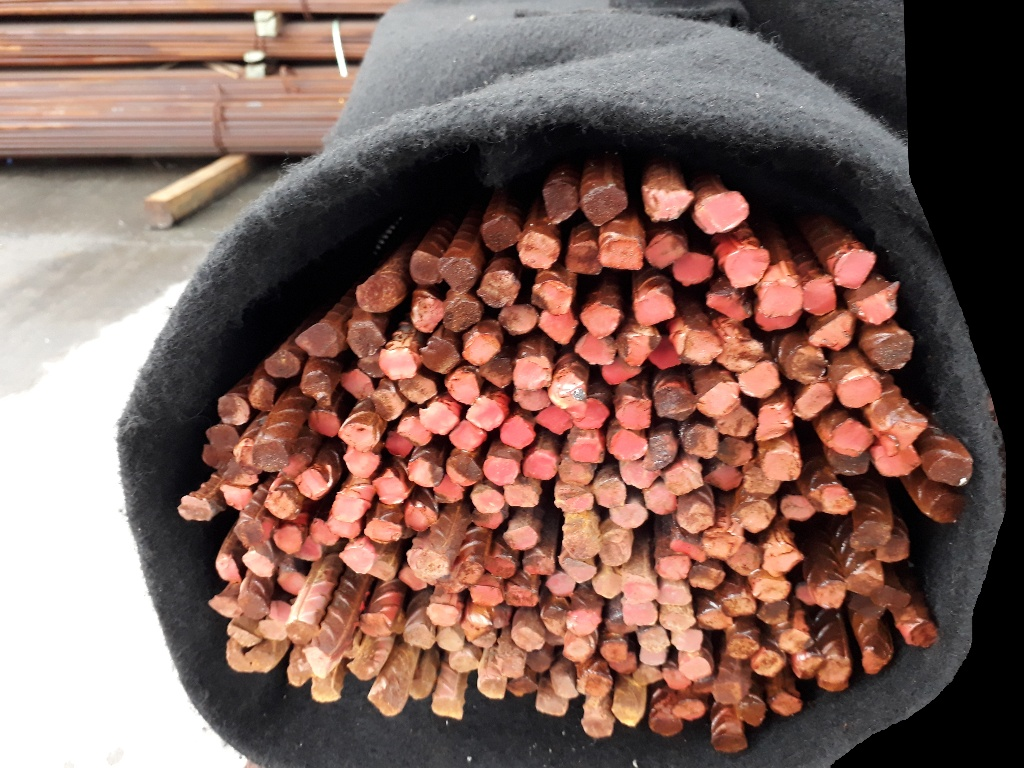dipstick: (694, 190, 749, 236), (858, 328, 914, 372), (639, 180, 693, 224), (720, 247, 770, 290), (852, 283, 902, 325), (836, 367, 883, 409), (808, 308, 853, 351), (829, 250, 877, 290), (583, 183, 627, 226), (870, 441, 921, 478), (925, 448, 973, 487), (597, 235, 647, 272), (542, 179, 580, 227), (345, 315, 388, 357), (700, 518, 745, 558), (844, 557, 889, 597), (737, 360, 783, 399), (616, 328, 660, 368), (707, 281, 752, 320), (717, 338, 767, 373), (562, 514, 600, 560), (406, 287, 443, 334), (546, 366, 587, 408), (518, 230, 561, 270), (477, 268, 520, 308), (295, 322, 344, 357), (404, 548, 453, 583), (643, 232, 688, 269), (632, 289, 678, 325), (441, 294, 482, 334), (418, 335, 461, 373), (878, 421, 927, 454), (613, 390, 653, 430), (786, 344, 827, 383), (696, 380, 737, 419), (526, 280, 573, 314), (825, 446, 872, 480), (763, 533, 801, 575), (680, 329, 723, 366), (578, 301, 621, 338), (652, 386, 697, 421), (563, 238, 603, 277), (759, 278, 801, 315), (741, 461, 783, 498), (926, 490, 969, 526), (435, 256, 475, 294), (566, 427, 606, 465), (683, 424, 723, 462), (792, 384, 833, 421), (832, 419, 872, 456), (755, 402, 795, 439), (370, 468, 411, 504), (811, 483, 857, 515), (644, 428, 679, 470), (758, 447, 802, 480), (802, 276, 839, 315), (673, 250, 713, 286), (464, 395, 504, 431), (407, 446, 443, 486), (512, 356, 554, 390), (539, 311, 578, 347), (445, 365, 480, 405), (497, 304, 538, 338), (409, 249, 446, 286), (747, 570, 791, 601), (447, 418, 487, 452), (418, 402, 459, 435), (734, 501, 775, 534), (805, 578, 846, 611), (849, 522, 894, 552), (555, 553, 600, 583), (377, 347, 419, 379), (481, 216, 518, 252), (608, 429, 647, 463), (598, 527, 632, 566), (553, 483, 597, 513), (356, 280, 397, 312), (617, 460, 662, 489), (877, 529, 912, 566), (463, 331, 501, 365), (252, 440, 290, 474), (231, 516, 270, 549), (708, 677, 749, 708), (367, 687, 408, 718), (728, 540, 763, 576), (531, 687, 573, 717), (498, 415, 535, 449), (817, 656, 854, 690), (573, 334, 611, 367), (678, 501, 716, 534), (570, 398, 609, 430), (395, 376, 438, 405), (715, 406, 756, 436), (901, 619, 942, 649), (261, 601, 294, 638), (339, 421, 381, 450), (703, 463, 745, 492), (535, 404, 573, 436), (601, 357, 642, 386), (774, 625, 815, 654), (618, 596, 659, 625), (863, 640, 896, 676), (547, 664, 580, 700), (715, 436, 752, 468), (557, 454, 594, 486), (251, 641, 288, 673), (690, 560, 728, 591), (326, 508, 364, 539), (694, 604, 736, 632), (754, 304, 801, 329), (750, 648, 789, 678), (676, 654, 715, 684), (668, 528, 707, 558), (868, 584, 911, 611), (358, 611, 401, 638), (659, 603, 699, 632), (521, 548, 561, 577), (299, 371, 333, 405), (734, 694, 768, 728), (266, 487, 301, 520), (478, 357, 515, 388), (778, 492, 815, 523), (521, 449, 558, 480), (767, 687, 804, 718), (659, 663, 696, 694), (575, 666, 612, 697), (502, 522, 539, 553), (294, 467, 327, 501), (446, 452, 481, 484), (608, 501, 648, 529), (539, 599, 567, 639), (363, 518, 406, 544), (341, 370, 377, 401), (216, 393, 252, 424), (274, 563, 310, 594), (264, 349, 301, 379), (247, 377, 277, 414), (721, 588, 758, 618), (235, 592, 273, 621), (643, 484, 677, 516), (396, 415, 431, 446), (511, 622, 548, 651), (332, 491, 369, 520), (647, 709, 685, 737), (177, 495, 215, 523), (238, 549, 276, 577), (508, 388, 554, 411), (308, 407, 341, 439), (301, 644, 334, 676), (594, 568, 624, 603), (307, 516, 342, 546), (494, 648, 530, 677), (403, 503, 439, 532), (226, 617, 262, 646), (287, 647, 313, 687), (344, 449, 381, 477), (593, 477, 625, 509), (283, 618, 316, 649), (611, 701, 645, 731), (561, 633, 595, 663), (395, 565, 429, 595), (483, 456, 518, 485), (501, 482, 540, 508), (565, 605, 601, 633), (758, 601, 795, 628), (621, 573, 658, 600), (339, 543, 370, 575), (471, 483, 504, 513), (311, 675, 344, 705), (271, 525, 304, 555), (423, 601, 461, 627), (790, 653, 825, 681), (670, 626, 705, 654), (504, 583, 539, 611), (483, 552, 518, 580), (204, 421, 240, 448), (372, 390, 404, 420), (432, 475, 465, 504), (470, 579, 504, 607), (713, 729, 751, 754), (656, 580, 694, 605), (636, 625, 671, 652), (672, 695, 708, 721), (656, 554, 692, 580), (476, 673, 509, 701), (347, 651, 381, 678), (724, 633, 759, 659), (277, 452, 309, 480), (595, 636, 628, 663), (225, 639, 251, 673), (212, 554, 242, 583), (401, 622, 433, 649), (431, 693, 463, 720), (466, 506, 501, 530), (524, 646, 555, 673), (218, 483, 249, 510), (356, 353, 388, 379), (542, 572, 576, 596), (382, 430, 411, 458), (453, 560, 483, 587), (460, 615, 491, 641), (200, 446, 235, 469), (434, 627, 466, 652), (204, 594, 241, 615), (609, 653, 639, 678), (507, 674, 538, 698), (294, 535, 321, 562), (404, 677, 434, 701), (446, 647, 471, 674), (581, 717, 614, 737), (631, 664, 662, 685), (636, 647, 670, 666)
